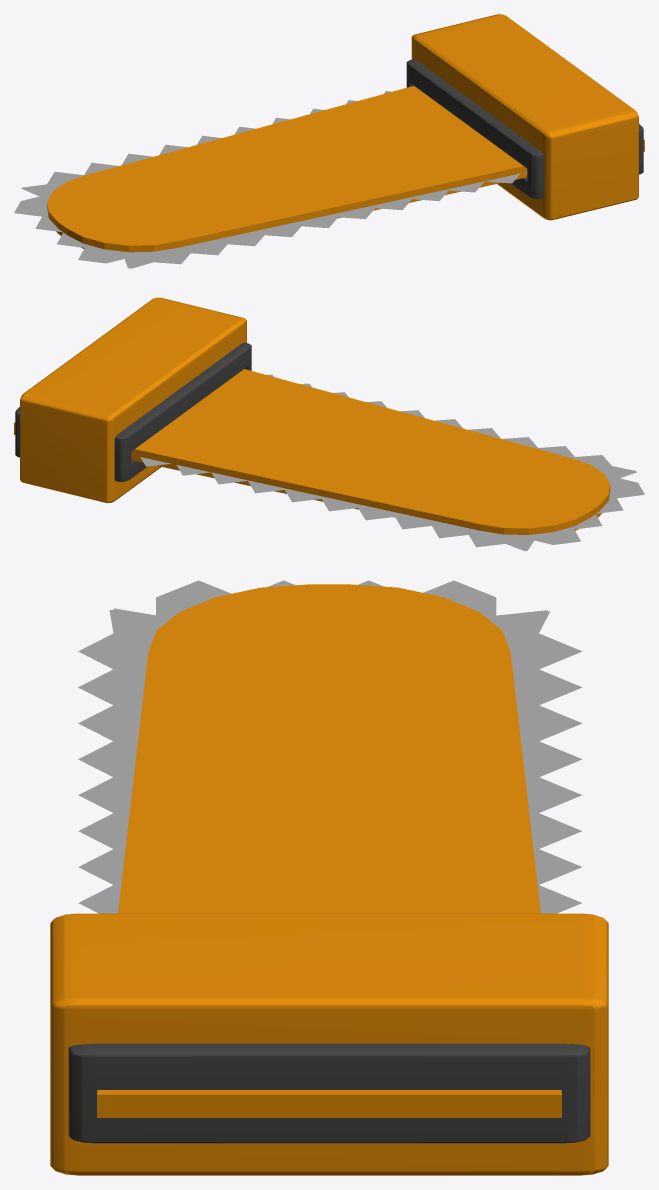
3 renders of one model, top to bottom at view 1: azimuth 30°, elevation 25°; view 2: azimuth 150°, elevation 25°; view 3: azimuth 270°, elevation 25°, orthographic. The views are drawn at different scales.
Visible parts, largest first — view 1: polySurface79, polySurface78; view 2: polySurface79, polySurface78; view 3: polySurface79, polySurface78.
Part boxes in pixels (x1=…): polySurface79: x1=14, y1=86, x2=644, y2=268; polySurface78: x1=406, y1=14, x2=643, y2=220; polySurface79: x1=14, y1=369, x2=644, y2=551; polySurface78: x1=15, y1=297, x2=251, y2=502; polySurface79: x1=78, y1=580, x2=582, y2=1117; polySurface78: x1=50, y1=913, x2=608, y2=1175.
Size of the model in its own units: 5.76 by 0.904 by 2.58.
